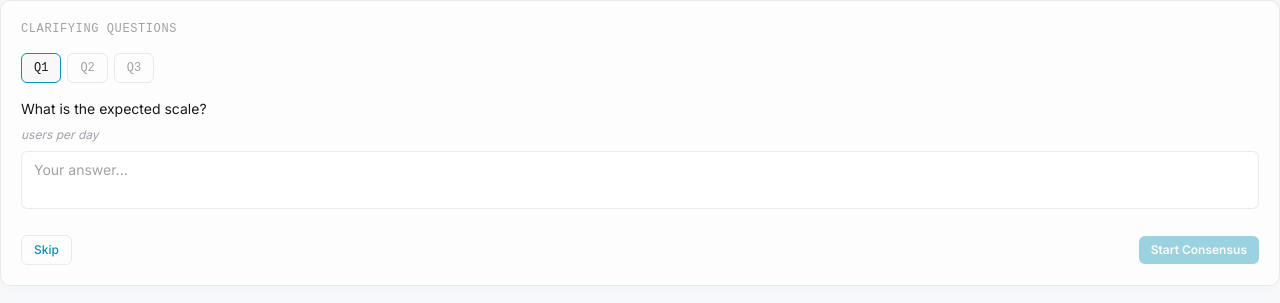
Test: RefinementPanel › switches tab on click
Click the button "Q2": [88, 68] box [67,53,108,83]
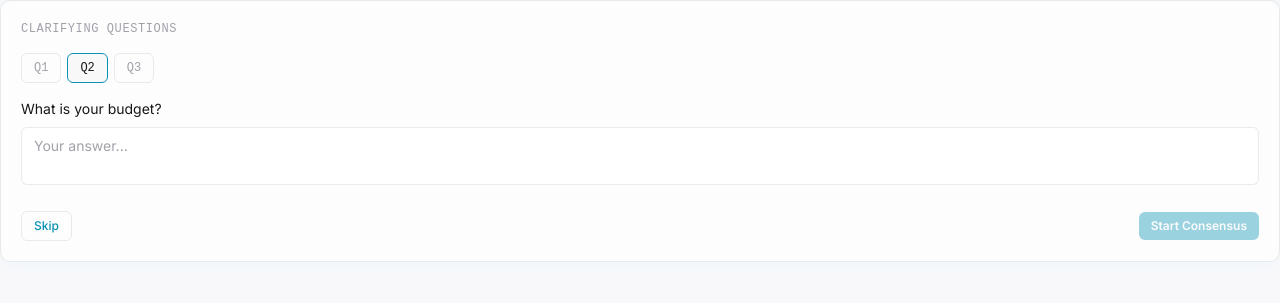
Expected: the text "What is your budget?" is shown, [21,100,162,117]
